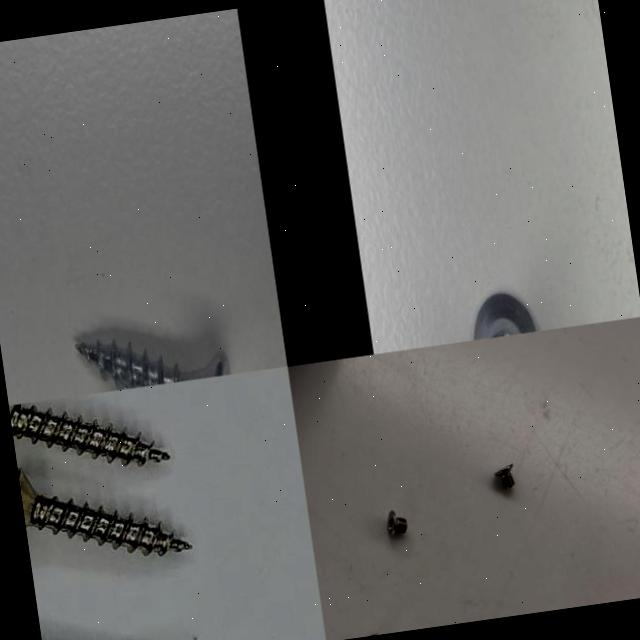Screw: (18, 472, 192, 556), (9, 405, 170, 466), (76, 340, 230, 389), (474, 293, 536, 340), (381, 506, 414, 540), (490, 459, 520, 494), (360, 628, 388, 638)
